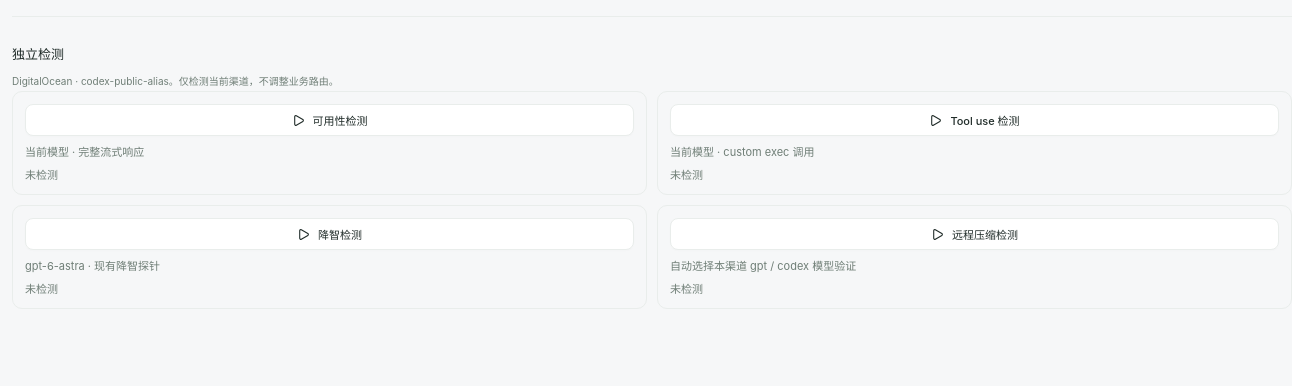
Scenario: allows probes before history finishes loading, even if that read fails
Click the button "可用性检测".
click(330, 120)  # box [25, 104, 634, 136]
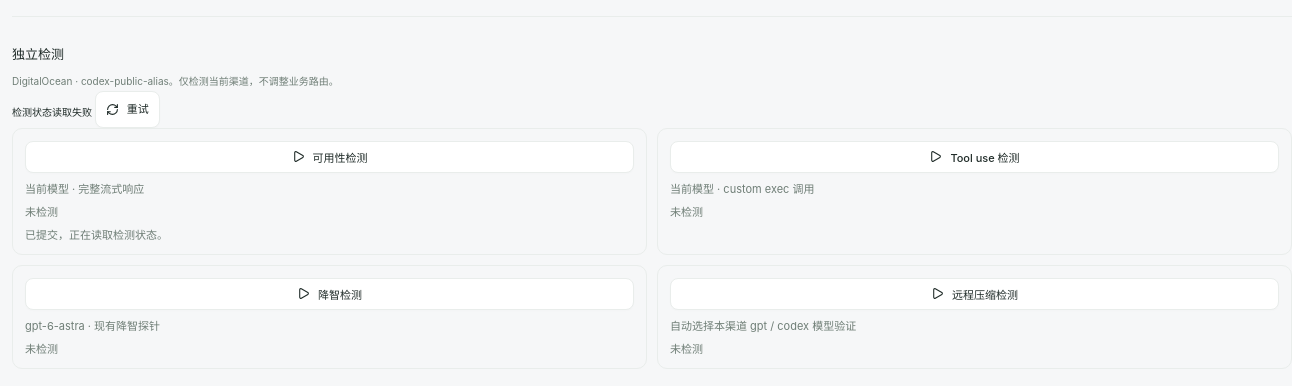
Expected: the button "降智检测" is enabled, [25, 278, 634, 310]
Result: the text "检测状态读取失败 重试" is shown at [12, 91, 160, 128]
